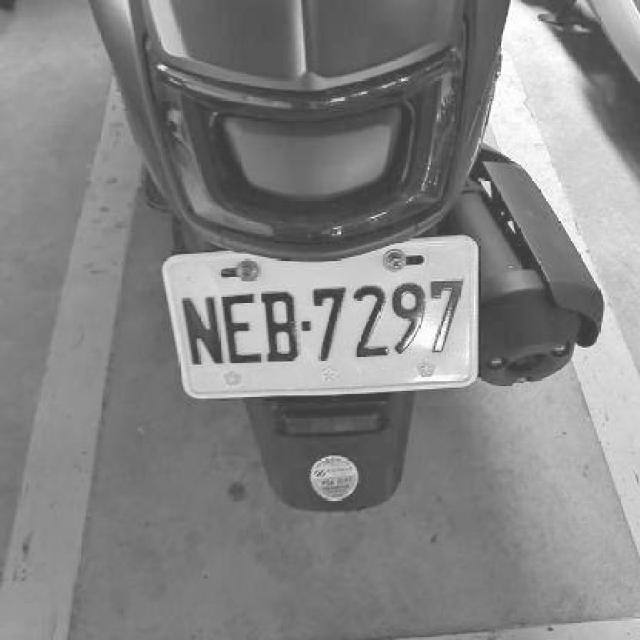-: (301, 318, 314, 332)
2: (348, 280, 389, 358)
7: (309, 283, 348, 365), (423, 278, 462, 351)
9: (388, 278, 426, 349)
B: (262, 288, 302, 363)
E: (218, 294, 260, 363)
N: (180, 295, 226, 368)
